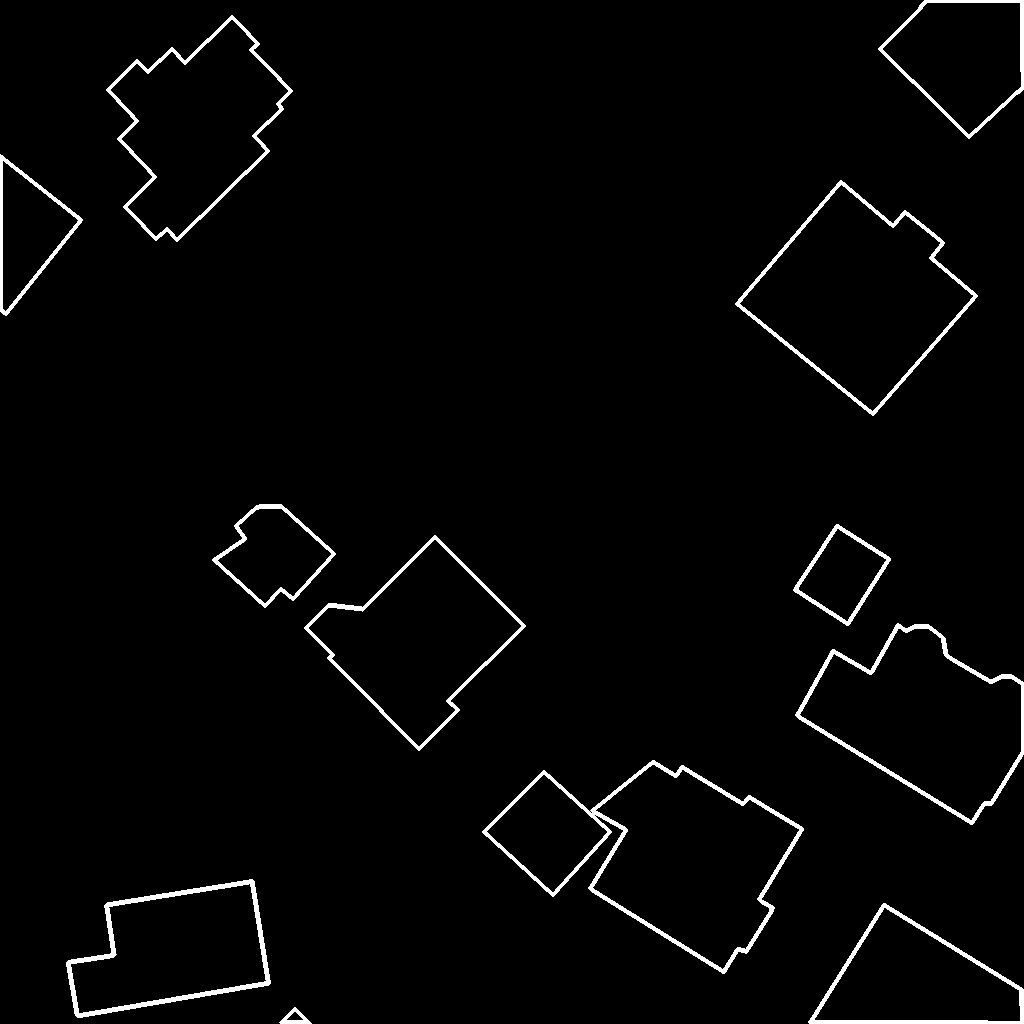building: (737, 182, 977, 415), (306, 537, 525, 750), (797, 625, 1024, 824), (590, 762, 803, 973), (108, 17, 292, 241), (68, 881, 270, 1017), (810, 905, 1024, 1024), (880, 0, 1024, 138), (484, 772, 611, 896), (0, 156, 82, 315), (214, 506, 335, 607), (795, 526, 890, 625), (281, 1009, 311, 1024)
